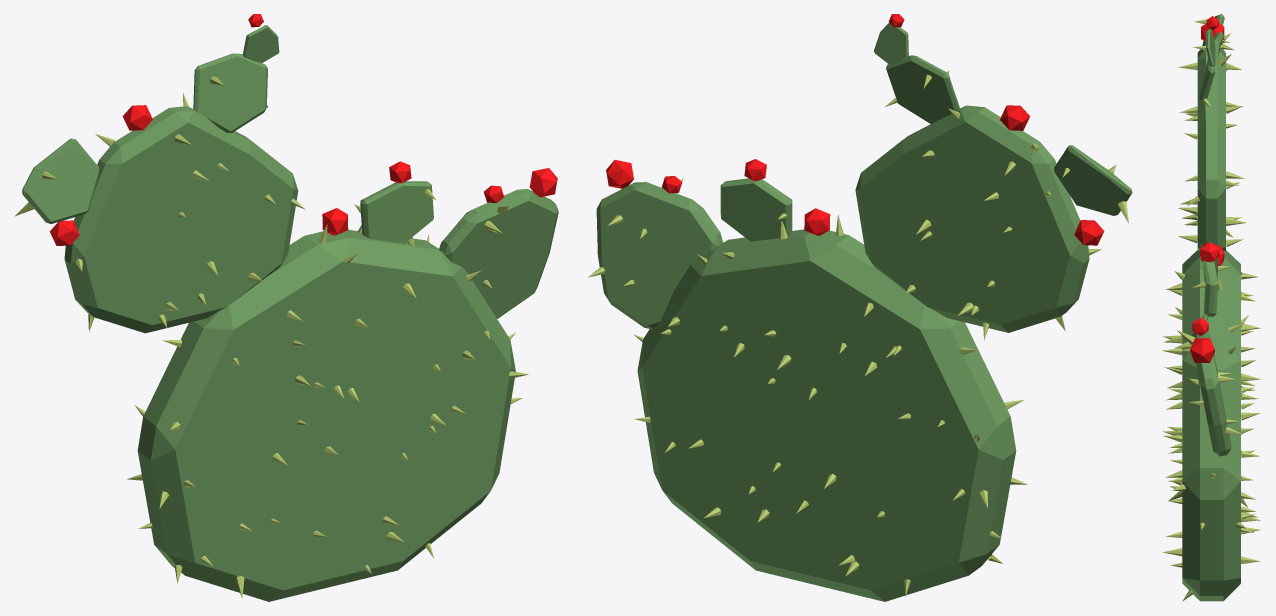
File: Cactus_V10.fbx
3 renders of one model, left to right at view 1: azimuth 30°, elevation 25°; view 2: azimuth 150°, elevation 25°; view 3: azimuth 270°, elevation 25°, orthographic. The views are drawn at different scales.
Parts seen in each view (by area): view 1: Cactus_V10; view 2: Cactus_V10; view 3: Cactus_V10.
Boxes of the visible parts, x1,y1,x2,y2 form: Cactus_V10: (14, 14, 558, 601); Cactus_V10: (588, 14, 1132, 601); Cactus_V10: (1162, 14, 1261, 601).
Size of the model in its own units: 285 by 296 by 51.41.
